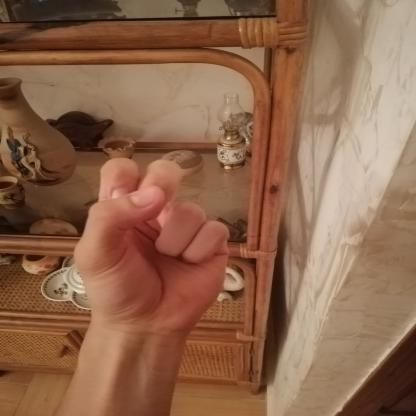QAAF: (57, 150, 242, 343)
